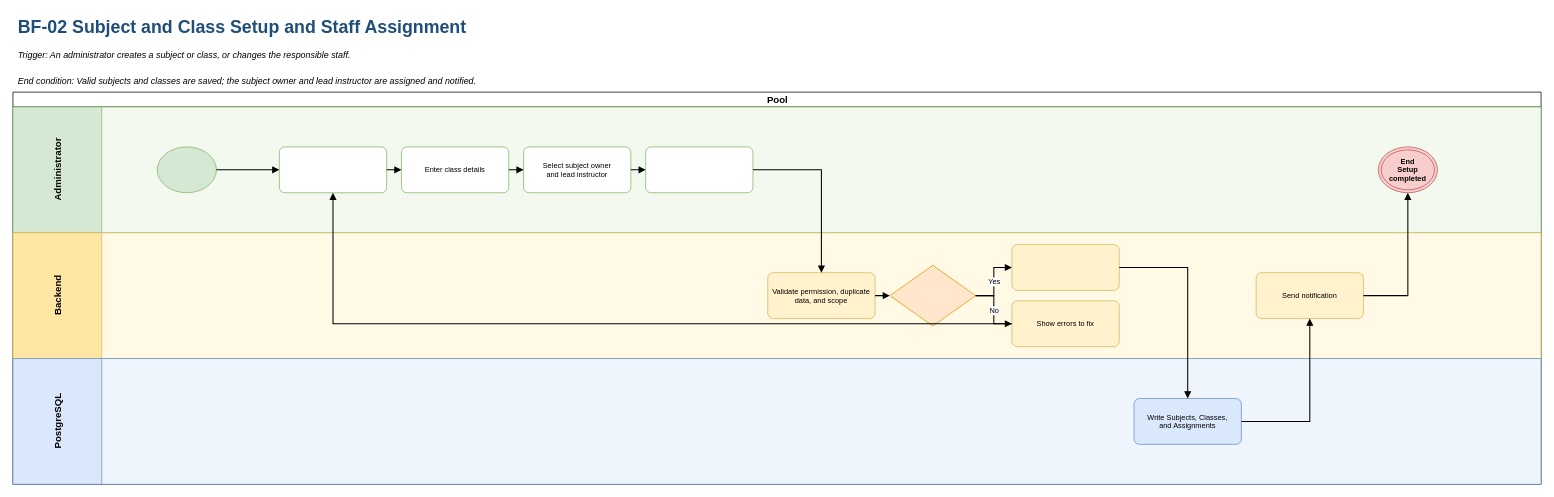
The diagram is 1554 pixels wide and 497 high, and some of its shapes have lost their labels. Each missing label, with the centre of its shape:
Confirm: (699,169)
Enter subject details: (333,169)
Save subjects, classes, and assignments: (1065,267)
Start: (186,169)
Valid?: (932,295)
